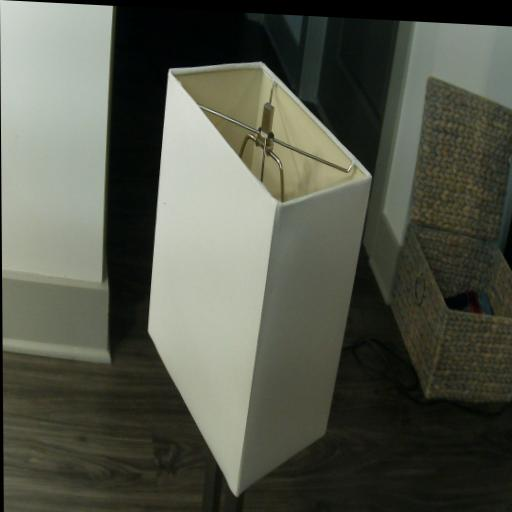lamp: (145, 54, 375, 512)
